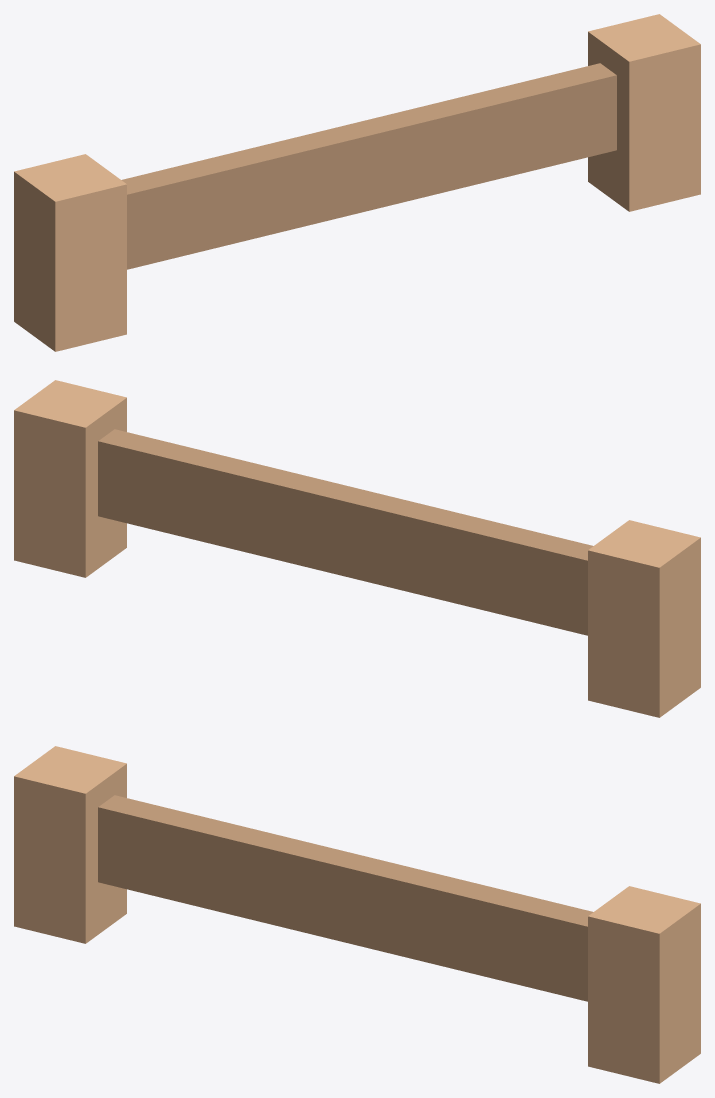
Rendered from fenceLow.glb.
The picture shows the model from 3 angles, top to bottom: view 1: azimuth 30°, elevation 25°; view 2: azimuth 150°, elevation 25°; view 3: azimuth 330°, elevation 25°; orthographic projection.
Parts seen in each view (by area): view 1: fenceLow; view 2: fenceLow; view 3: fenceLow.
Boxes of the visible parts, x1,y1,x2,y2 form: fenceLow: (14,14,700,351); fenceLow: (14,380,700,717); fenceLow: (14,746,700,1083).
Bounding box in the file's own units: 0.9 × 0.2 × 0.1.
